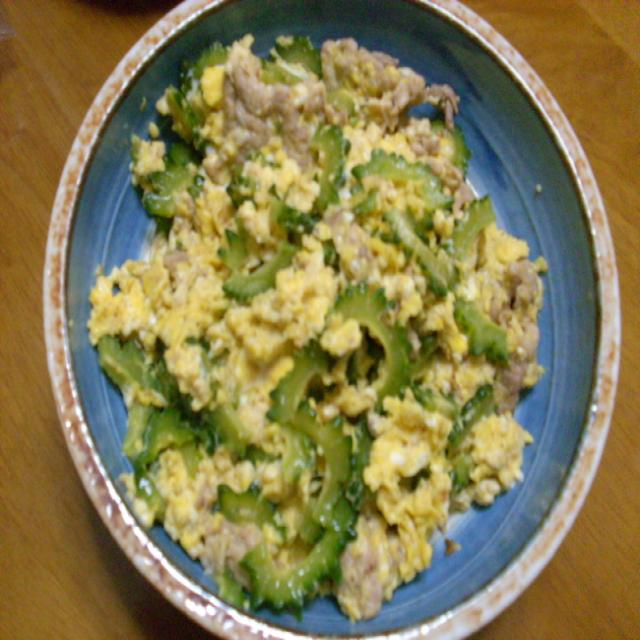熟制海鲜: (44, 0, 612, 640)
